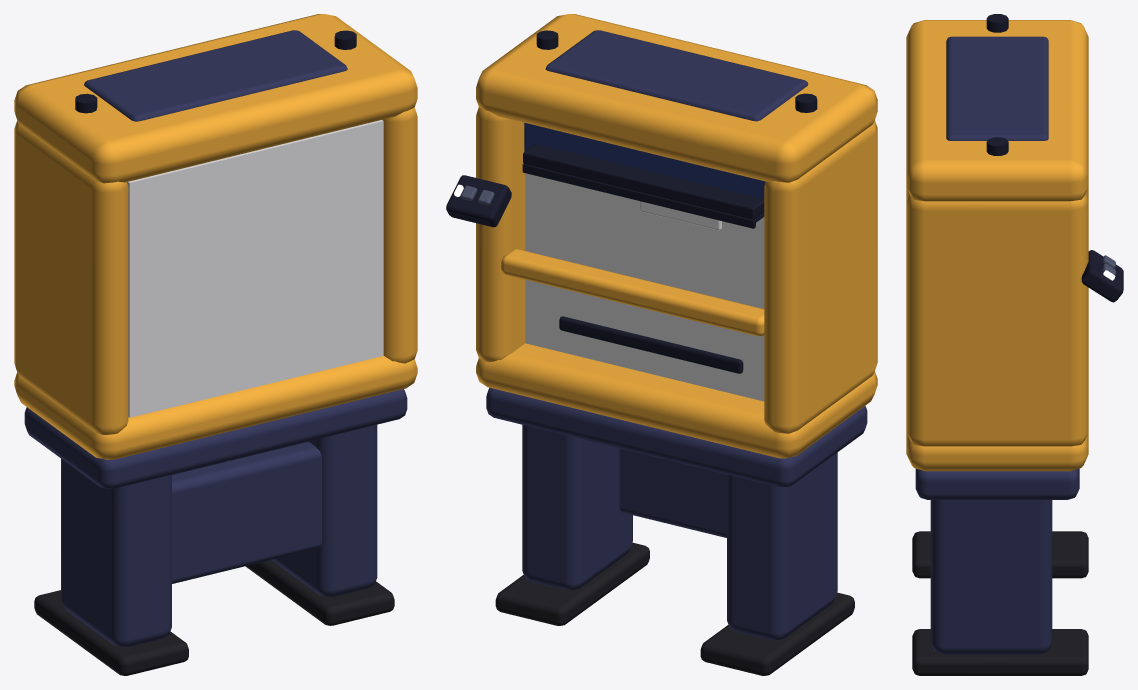
Rendered from prop.props_workrooms.machine_yellow.glb.
3 renders of one model, left to right at view 1: azimuth 30°, elevation 25°; view 2: azimuth 150°, elevation 25°; view 3: azimuth 270°, elevation 25°, orthographic. The views are drawn at different scales.
Parts seen in each view (by area): view 1: prop.props_workrooms.machine_yellow; view 2: prop.props_workrooms.machine_yellow; view 3: prop.props_workrooms.machine_yellow.
Boxes of the visible parts, x1=… form: prop.props_workrooms.machine_yellow: x1=14, y1=14, x2=417, y2=675; prop.props_workrooms.machine_yellow: x1=446, y1=14, x2=877, y2=675; prop.props_workrooms.machine_yellow: x1=906, y1=14, x2=1123, y2=675.
Size of the model in its own units: 0.6125 by 0.968 by 0.3573.
